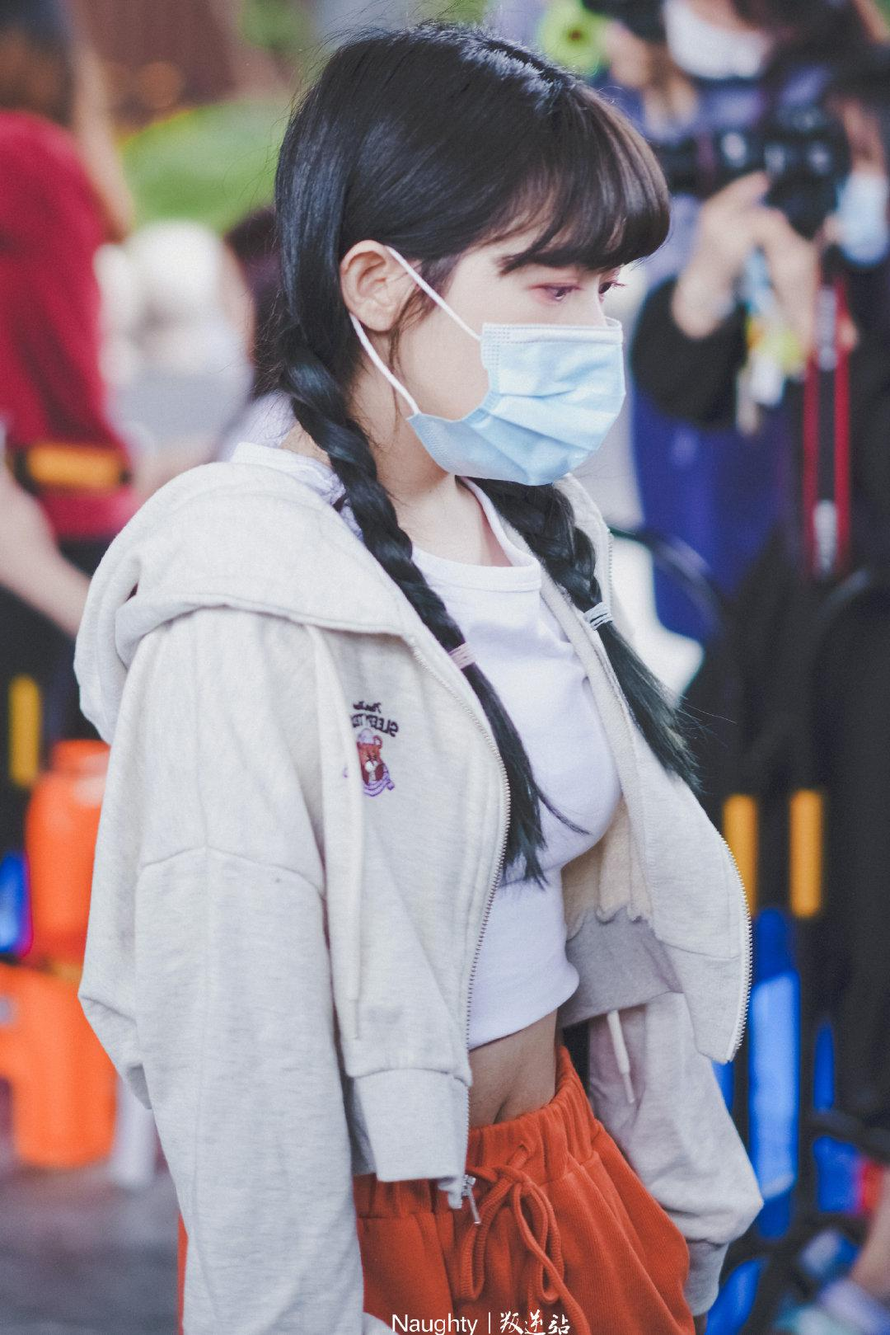OK: (433, 224, 625, 487)
